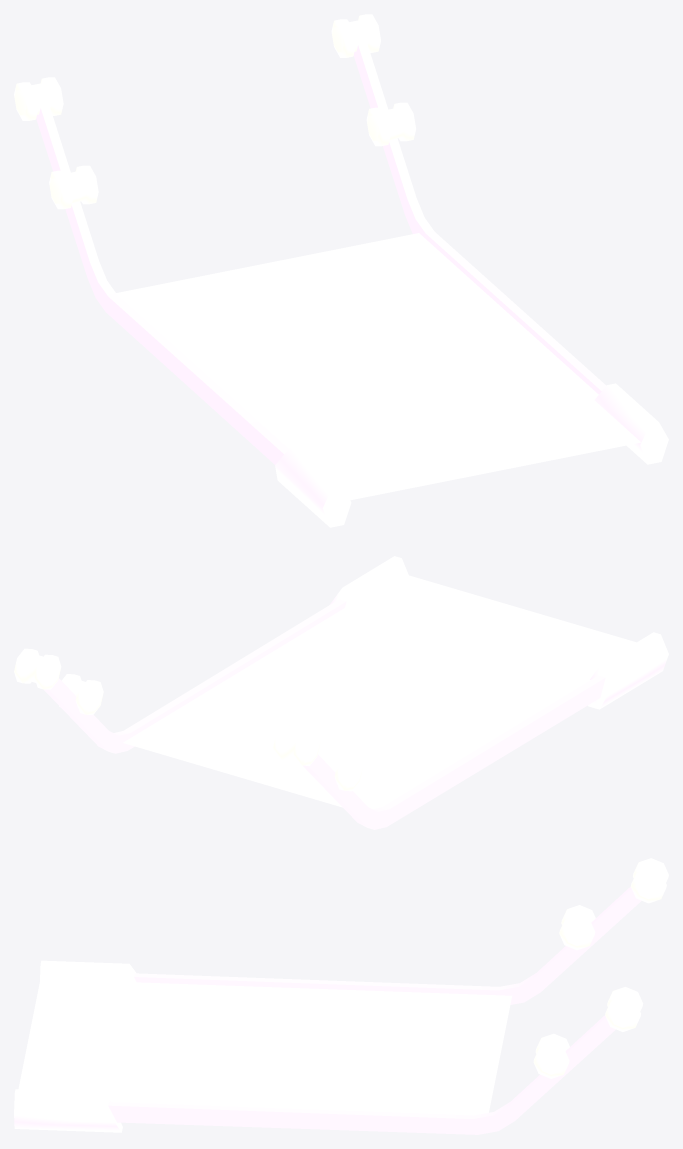
File: Fence_Ground.glb
3 renders of one model, top to bottom at view 1: azimuth 30°, elevation 25°; view 2: azimuth 150°, elevation 25°; view 3: azimuth 270°, elevation 25°, orthographic. The views are drawn at different scales.
Parts seen in each view (by area): view 1: Fence_Ground; view 2: Fence_Ground; view 3: Fence_Ground.
Part boxes in pixels (x1=…): Fence_Ground: x1=14, y1=14, x2=668, y2=527; Fence_Ground: x1=14, y1=556, x2=668, y2=829; Fence_Ground: x1=14, y1=858, x2=668, y2=1134.
Size of the model in its own units: 0.8777 by 0.3855 by 1.48.
